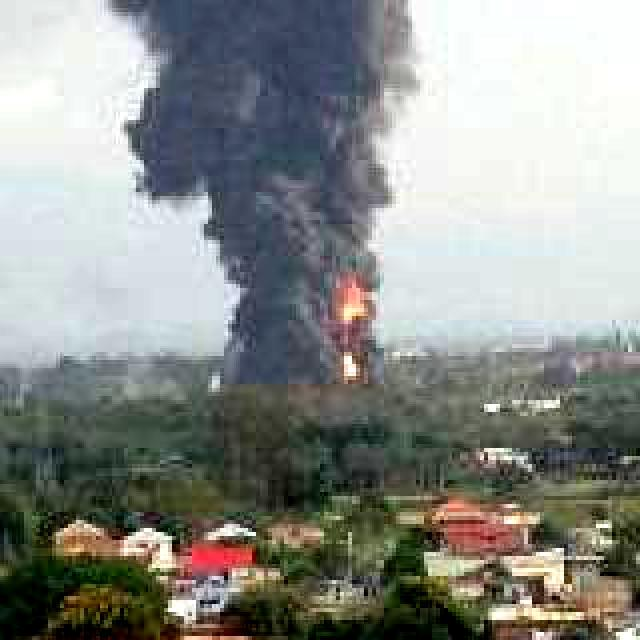smoke: (84, 0, 408, 376)
